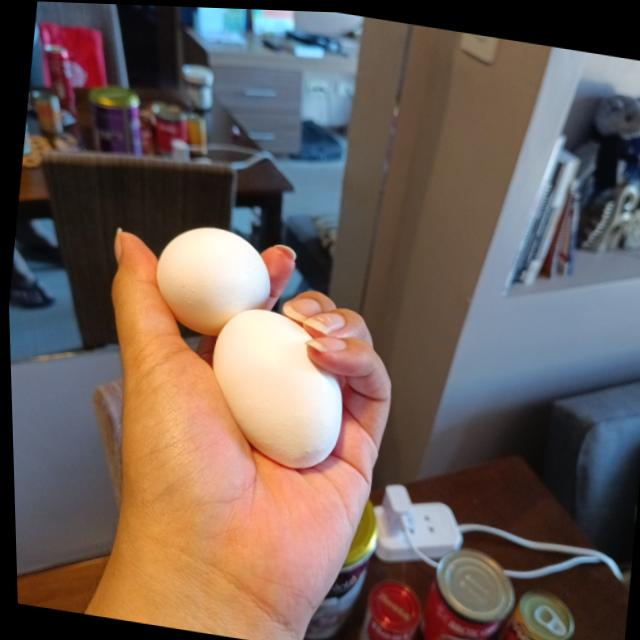egg: (201, 303, 350, 467), (146, 218, 276, 339)
